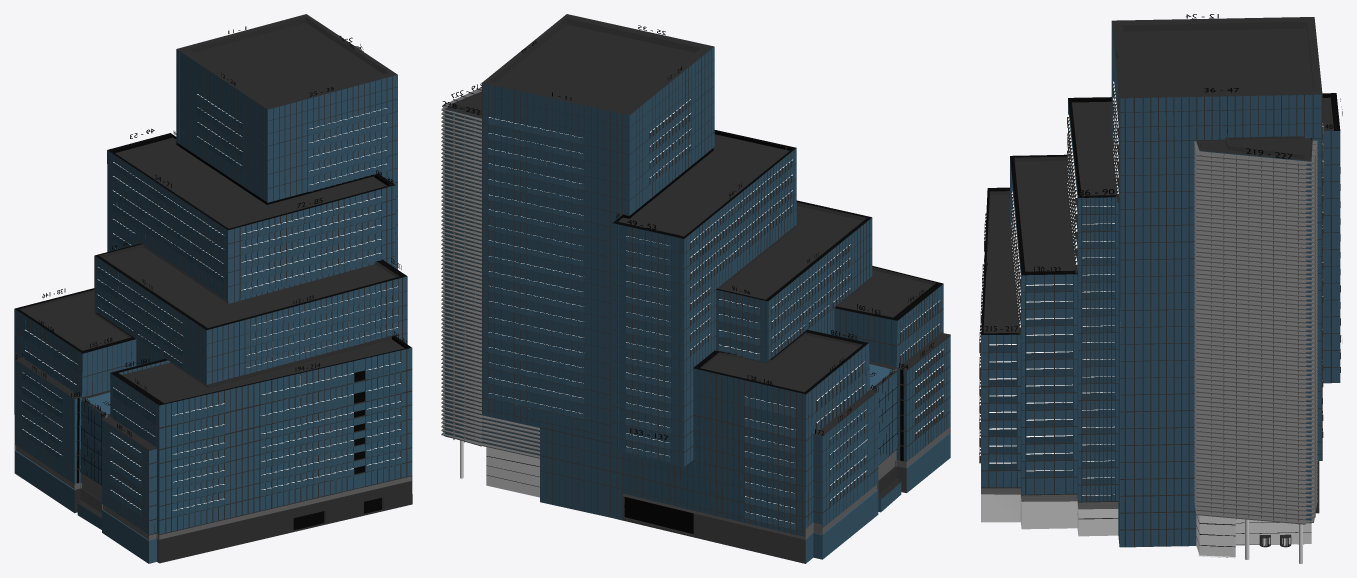
The model's file is Ropemaker.glb.
The picture shows the model from 3 angles, left to right: view 1: azimuth 30°, elevation 25°; view 2: azimuth 150°, elevation 25°; view 3: azimuth 270°, elevation 25°; orthographic projection. The views are drawn at different scales.
Visible parts, largest first — view 1: Cube, Drop210, Drop35, Drop205, Drop197, Drop208, Drop196, Drop204, Drop206, Drop194, Drop202, Drop213 (+100 smaller); view 2: Cube, Cube.002, Drop8, Drop6, Drop7, Drop10, Drop9, Drop5, Drop3, Drop4, Drop2, Drop1 (+58 smaller); view 3: Cube, Cube.001, Drop36, Drop39, Drop37, Drop38, Drop130, Drop131, Drop48, Cube.002, Cube.003, Drop87 (+19 smaller).
Boxes of the visible parts, x1=… form: Cube: x1=14, y1=14, x2=412, y2=563; Drop210: x1=347, y1=358, x2=365, y2=490; Drop35: x1=381, y1=75, x2=397, y2=269; Drop205: x1=289, y1=373, x2=301, y2=503; Drop197: x1=195, y1=395, x2=206, y2=525; Drop208: x1=324, y1=365, x2=336, y2=495; Drop196: x1=183, y1=397, x2=195, y2=528; Drop204: x1=277, y1=376, x2=289, y2=506; Drop206: x1=301, y1=370, x2=312, y2=501; Drop194: x1=159, y1=403, x2=170, y2=534; Drop202: x1=254, y1=381, x2=265, y2=511; Drop213: x1=389, y1=350, x2=401, y2=480; Cube: x1=445, y1=14, x2=950, y2=563; Cube.002: x1=441, y1=107, x2=483, y2=446; Drop8: x1=571, y1=103, x2=584, y2=511; Drop6: x1=546, y1=97, x2=558, y2=506; Drop7: x1=559, y1=100, x2=571, y2=508; Drop10: x1=598, y1=108, x2=610, y2=517; Drop9: x1=585, y1=105, x2=597, y2=514; Drop5: x1=533, y1=94, x2=545, y2=503; Drop3: x1=507, y1=88, x2=520, y2=422; Drop4: x1=520, y1=91, x2=533, y2=425; Drop2: x1=494, y1=86, x2=507, y2=419; Drop1: x1=482, y1=83, x2=494, y2=416; Cube: x1=979, y1=17, x2=1340, y2=557; Cube.001: x1=1196, y1=151, x2=1308, y2=524; Drop36: x1=1120, y1=98, x2=1142, y2=529; Drop39: x1=1174, y1=97, x2=1196, y2=528; Drop37: x1=1143, y1=97, x2=1158, y2=529; Drop38: x1=1159, y1=97, x2=1173, y2=528; Drop130: x1=1021, y1=275, x2=1043, y2=494; Drop131: x1=1044, y1=274, x2=1065, y2=494; Drop48: x1=1322, y1=131, x2=1340, y2=383; Cube.002: x1=1304, y1=140, x2=1317, y2=523; Cube.003: x1=1194, y1=141, x2=1202, y2=514; Drop87: x1=1086, y1=197, x2=1094, y2=501.
Size of the model in its own units: 93.7 by 98.68 by 70.98.
